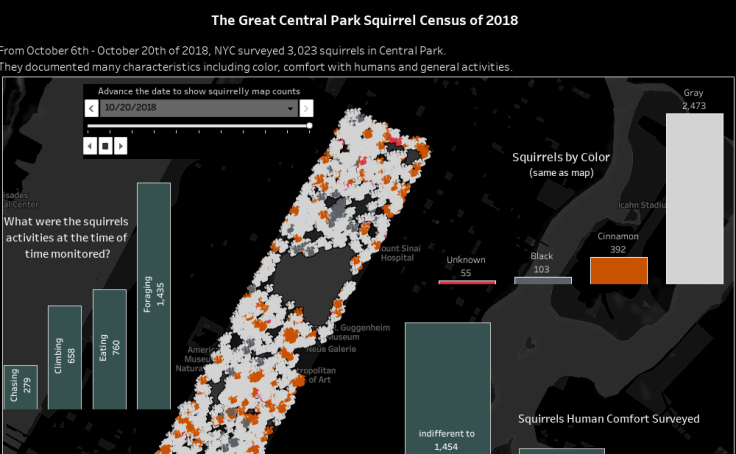

The dashboard page shown, as its layout file describes it:
{"tool":"powerbi","page":{"name":"Page 1","canvas":[1280,720],"ordinal":0},"visuals":[{"type":"map","fields":{"Size":["CountNonNull(Sheet1.Unique Squirrel ID)"],"Y":["take3.Y"],"X":["take3.X"]},"box":[0,0,406.6,720],"z":0},{"type":"actionButton","box":[0,0,100,40],"z":2000},{"type":"clusteredColumnChart","title":"What were they doing?","fields":{"Category":["take3.Attribute"],"Series":["take3.Primary Fur Color"],"Y":["take3.Value divided by Count of Value 2"]},"box":[406.5,189.5,873.5,339.2],"z":3000},{"type":"image","box":[406.6,8.5,196,181.5],"z":3001},{"type":"textbox","box":[602.9,0,677.1,60.4],"z":3002},{"type":"image","box":[587.8,50.8,692.2,151.1],"z":3003}]}

Visuals, with their boxes on the page's 1280x720 design canvas (x1, y1, x2, y2). These are canvas units, not pixel positions in the 736x454 screenshot, which may show the page scaled, cropped or inside an application window:
map - CountNonNull(Sheet1.Unique Squirrel ID) x take3.Y: 0 0 407 720
actionButton: 0 0 100 40
"What were they doing?" clusteredColumnChart: 406 190 1280 529
image: 407 8 603 190
textbox: 603 0 1280 60
image: 588 51 1280 202
